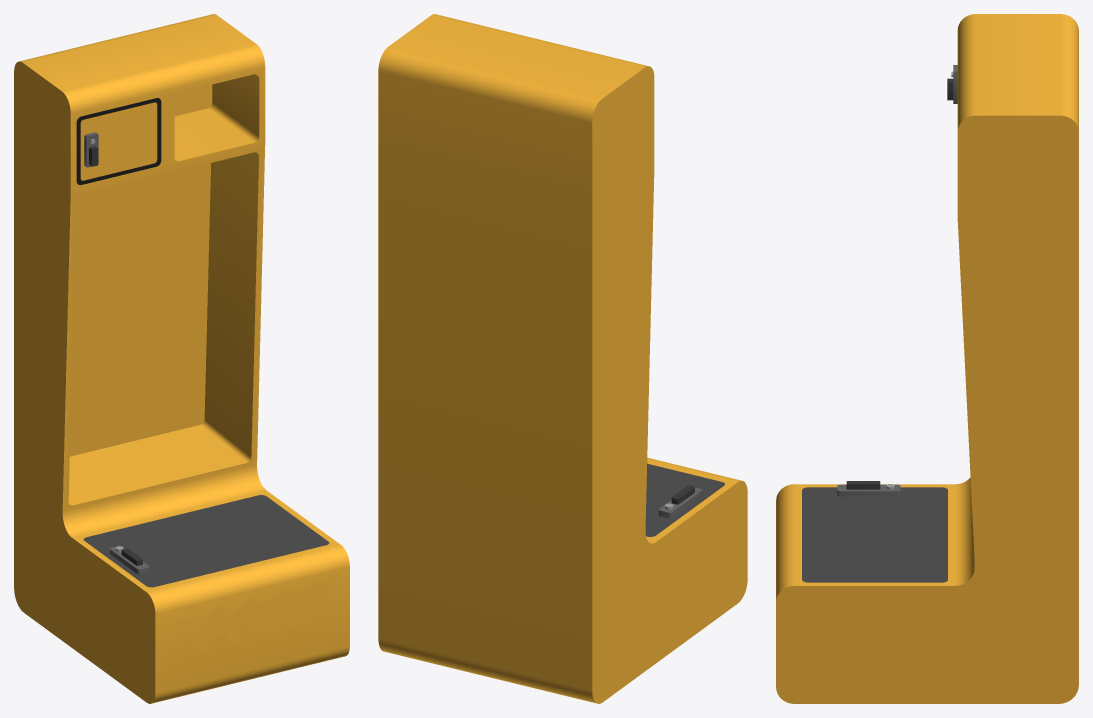
The model's file is Locker Big Yellow.fbx.
The picture shows the model from 3 angles, left to right: view 1: azimuth 30°, elevation 25°; view 2: azimuth 150°, elevation 25°; view 3: azimuth 270°, elevation 25°; orthographic projection. The views are drawn at different scales.
Parts seen in each view (by area): view 1: Locker Big Yellow, Locker Big Yellow Door A, Locker Big Yellow Door B; view 2: Locker Big Yellow, Locker Big Yellow Door A; view 3: Locker Big Yellow, Locker Big Yellow Door A.
Part boxes in pixels (x1=…): Locker Big Yellow: x1=14, y1=14, x2=349, y2=703; Locker Big Yellow Door A: x1=83, y1=495, x2=329, y2=587; Locker Big Yellow Door B: x1=76, y1=98, x2=161, y2=184; Locker Big Yellow: x1=378, y1=14, x2=747, y2=703; Locker Big Yellow Door A: x1=645, y1=463, x2=724, y2=536; Locker Big Yellow: x1=776, y1=14, x2=1078, y2=703; Locker Big Yellow Door A: x1=802, y1=481, x2=947, y2=582.
Size of the model in its own units: 106 by 286 by 134.
